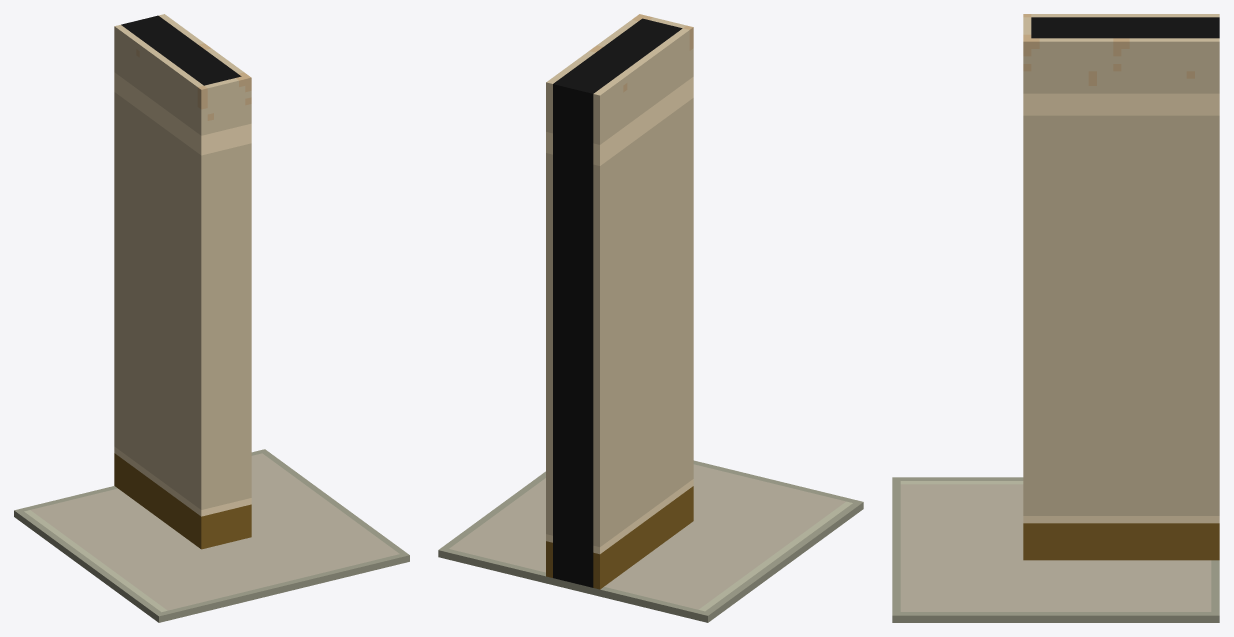
Rendered from Parede_End.obj.
3 views of the same model, side by side, from view 1: azimuth 30°, elevation 25°; view 2: azimuth 150°, elevation 25°; view 3: azimuth 270°, elevation 25° (orthographic). The views are drawn at different scales.
Size of the model in its own units: 40 by 71 by 40.
1 material, 1 textured.
